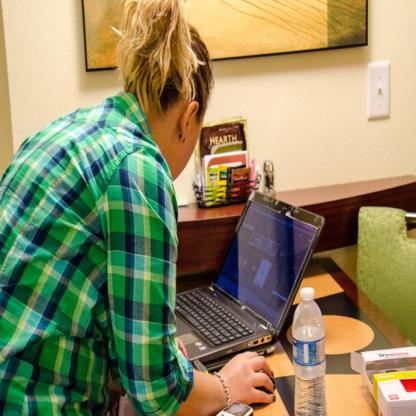board: (176, 192, 324, 362), (293, 286, 326, 416)
